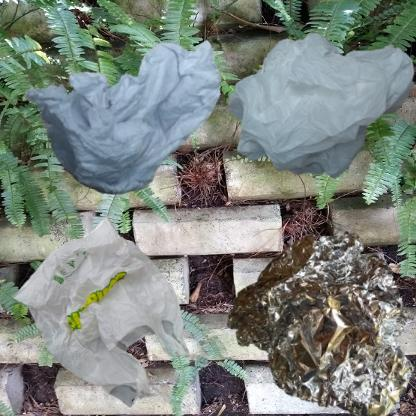aluminio: (213, 213, 416, 416)
bolsa: (213, 10, 416, 213), (10, 213, 194, 409)
papel: (10, 10, 236, 217)
